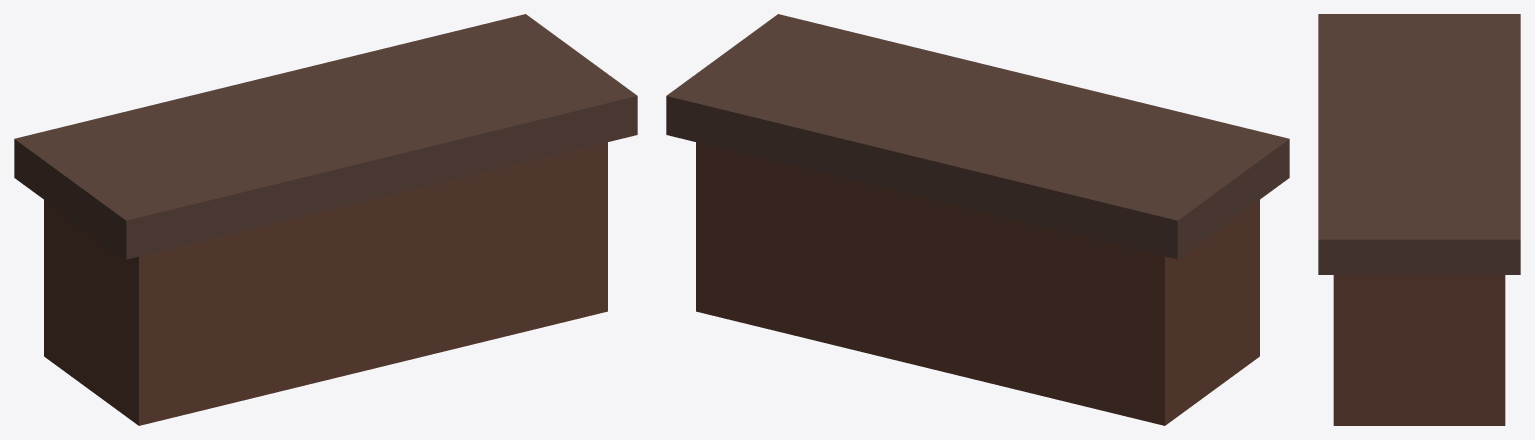
File: workshop.fbx
The picture shows the model from 3 angles, left to right: view 1: azimuth 30°, elevation 25°; view 2: azimuth 150°, elevation 25°; view 3: azimuth 270°, elevation 25°; orthographic projection. The views are drawn at different scales.
Parts seen in each view (by area): view 1: workshop; view 2: workshop; view 3: workshop.
Boxes of the visible parts, left/top/right/bottom form: workshop: left=14, top=14, right=637, bottom=425; workshop: left=666, top=14, right=1289, bottom=425; workshop: left=1318, top=14, right=1520, bottom=425.
Bounding box in the file's own units: 603 × 244 × 228.
